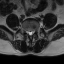CCS_stenosis: (29, 28, 31, 37)
LFS_normal: (33, 27, 36, 34)
LLS_normal: (31, 28, 33, 36)
RFS_normal: (24, 28, 27, 34)
RLS_normal: (27, 28, 29, 36)
